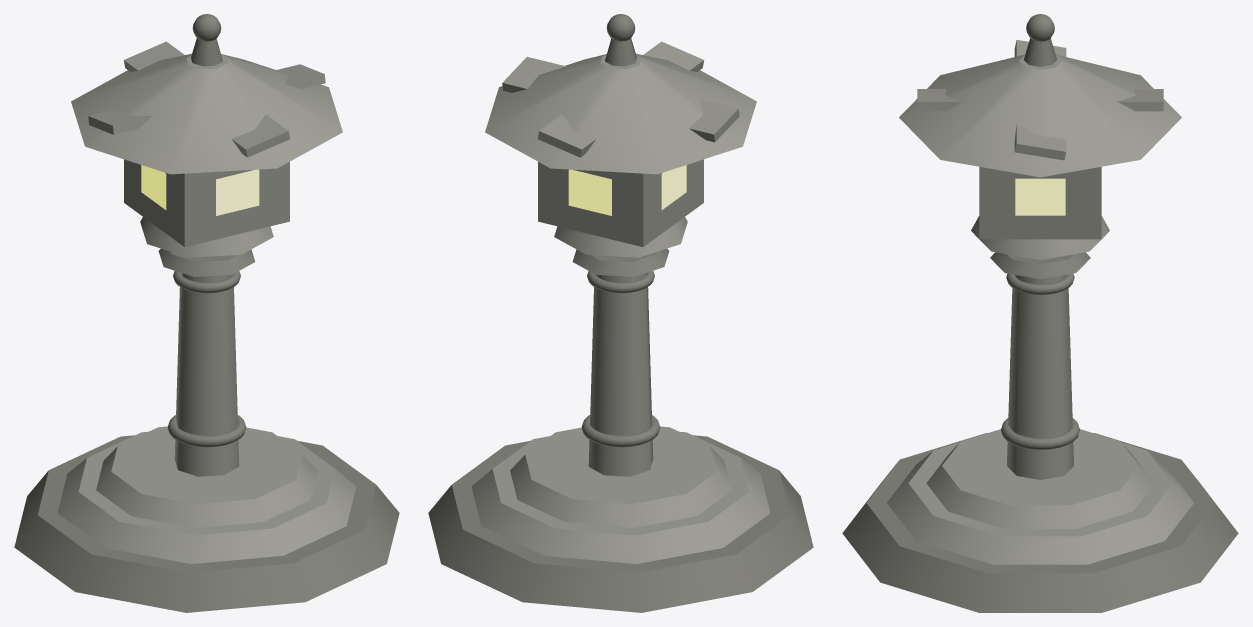
File: Japanese Garden Stone Lantern Model-v20260325.glb
3 views of the same model, side by side, from view 1: azimuth 30°, elevation 25°; view 2: azimuth 150°, elevation 25°; view 3: azimuth 270°, elevation 25° (orthographic).
Parts seen in each view (by area): view 1: groundBase, roofCone, upperPlinth, lowerPlinth, mainShaft, lightChamber, housingBase, eaveLeftRight, eaveFrontBack, collar, frontWindow, shaftRingLow (+4 smaller); view 2: groundBase, roofCone, upperPlinth, lowerPlinth, mainShaft, lightChamber, eaveFrontBack, housingBase, eaveLeftRight, collar, backWindow, shaftRingLow (+4 smaller); view 3: groundBase, roofCone, upperPlinth, lowerPlinth, mainShaft, lightChamber, housingBase, rightWindow, collar, eaveLeftRight, eaveFrontBack, shaftRingLow (+3 smaller).
Boxes of the visible parts, x1=… form: groundBase: x1=14, y1=435, x2=399, y2=612; roofCone: x1=71, y1=53, x2=342, y2=174; upperPlinth: x1=96, y1=426, x2=317, y2=527; lowerPlinth: x1=57, y1=432, x2=356, y2=563; mainShaft: x1=174, y1=273, x2=239, y2=476; lightChamber: x1=124, y1=159, x2=289, y2=246; housingBase: x1=140, y1=217, x2=273, y2=257; eaveLeftRight: x1=123, y1=41, x2=289, y2=157; eaveFrontBack: x1=88, y1=64, x2=325, y2=134; collar: x1=158, y1=248, x2=255, y2=276; frontWindow: x1=216, y1=169, x2=259, y2=215; shaftRingLow: x1=167, y1=415, x2=246, y2=447; groundBase: x1=428, y1=435, x2=813, y2=612; roofCone: x1=485, y1=53, x2=756, y2=174; upperPlinth: x1=510, y1=426, x2=731, y2=527; lowerPlinth: x1=471, y1=432, x2=770, y2=563; mainShaft: x1=588, y1=273, x2=653, y2=476; lightChamber: x1=538, y1=159, x2=703, y2=246; eaveFrontBack: x1=502, y1=57, x2=739, y2=142; housingBase: x1=554, y1=217, x2=687, y2=257; eaveLeftRight: x1=538, y1=41, x2=704, y2=157; collar: x1=572, y1=248, x2=669, y2=276; backWindow: x1=568, y1=169, x2=611, y2=215; shaftRingLow: x1=581, y1=415, x2=660, y2=447; groundBase: x1=842, y1=433, x2=1238, y2=612; roofCone: x1=899, y1=54, x2=1181, y2=177; upperPlinth: x1=926, y1=429, x2=1154, y2=528; lowerPlinth: x1=887, y1=442, x2=1193, y2=564; mainShaft: x1=1007, y1=274, x2=1073, y2=479; lightChamber: x1=979, y1=166, x2=1101, y2=239; housingBase: x1=971, y1=216, x2=1109, y2=259; rightWindow: x1=1015, y1=178, x2=1065, y2=215; collar: x1=990, y1=252, x2=1090, y2=279; eaveLeftRight: x1=917, y1=89, x2=1163, y2=111; eaveFrontBack: x1=1014, y1=40, x2=1066, y2=160; shaftRingLow: x1=1001, y1=418, x2=1079, y2=449.
Size of the model in its own units: 3.14 by 4.76 by 3.3.
